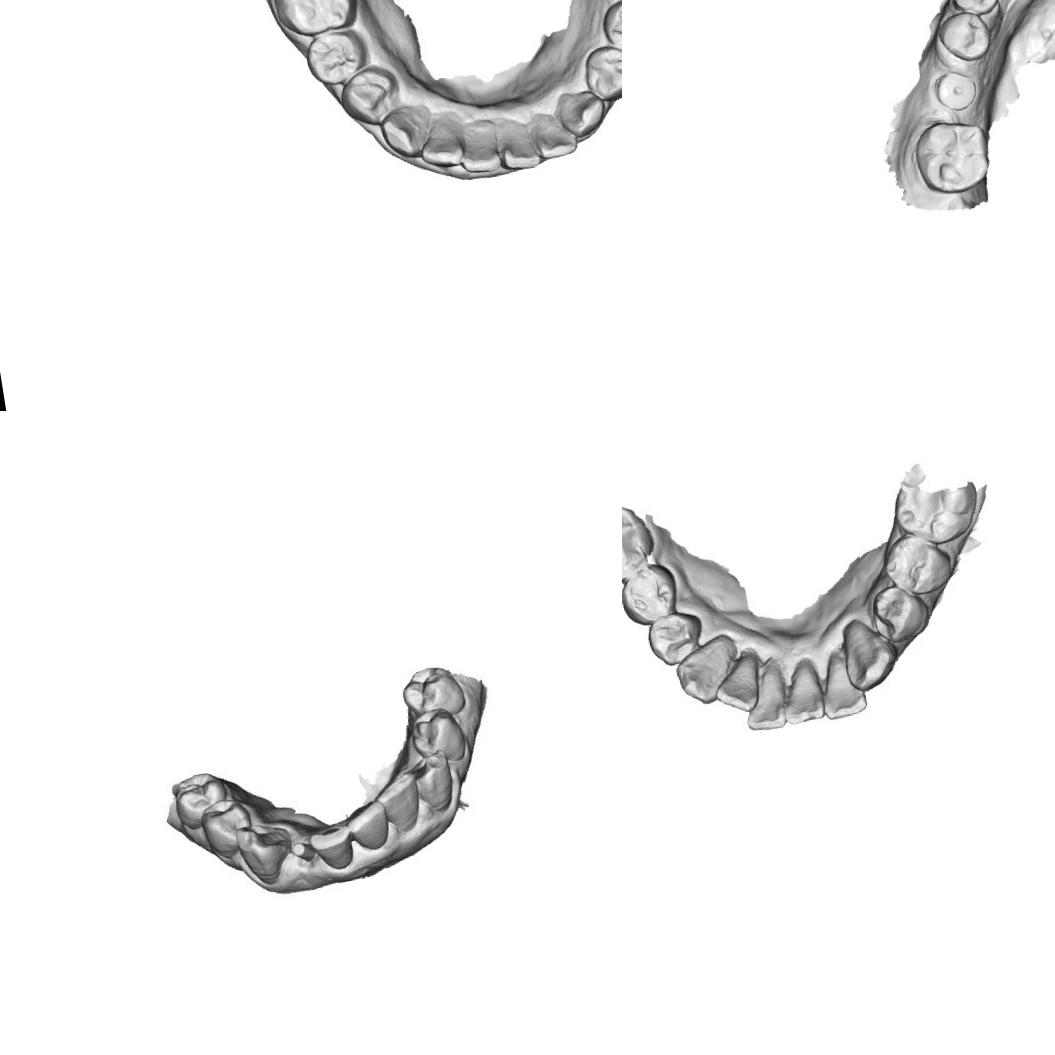abutment: (284, 836, 320, 877)
canine: (836, 614, 901, 698), (675, 638, 741, 705), (376, 101, 438, 163), (237, 824, 296, 888), (408, 748, 461, 814), (554, 86, 610, 140)
implant: (932, 68, 980, 115)
incisor: (712, 652, 764, 717), (780, 654, 828, 724), (819, 650, 868, 717), (742, 662, 789, 730), (454, 116, 503, 176), (415, 115, 466, 172), (495, 116, 542, 174), (531, 108, 579, 161), (309, 820, 354, 872), (348, 799, 393, 851), (383, 776, 425, 831)
molar: (890, 460, 984, 541), (911, 114, 994, 201), (267, 0, 362, 41), (622, 506, 655, 581)
premolar: (885, 529, 956, 603), (864, 580, 934, 649), (335, 62, 405, 130), (303, 26, 370, 90), (622, 562, 686, 624), (410, 704, 472, 766), (401, 661, 466, 718), (934, 7, 994, 66), (201, 797, 254, 857), (650, 611, 702, 664), (580, 40, 622, 105), (173, 778, 227, 821), (598, 0, 622, 60), (946, 0, 1001, 19)
